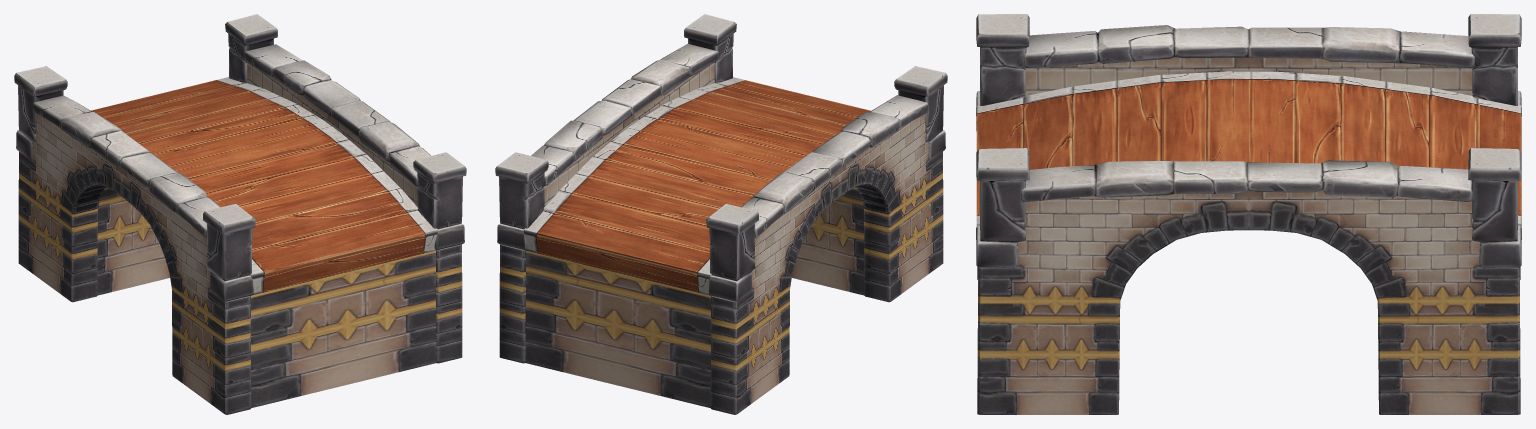
The model's file is bridge_stone.fbx.
3 views of the same model, side by side, from view 1: azimuth 30°, elevation 25°; view 2: azimuth 150°, elevation 25°; view 3: azimuth 270°, elevation 25° (orthographic). The views are drawn at different scales.
Visible parts, largest first — view 1: bridge_stone; view 2: bridge_stone; view 3: bridge_stone.
Part boxes in pixels (bbox=[...]): bridge_stone: bbox=[14, 14, 466, 414]; bridge_stone: bbox=[495, 14, 947, 414]; bridge_stone: bbox=[976, 14, 1521, 414].
Size of the model in its own units: 13146 by 19456 by 9780.
Materials: 1 (1 with a texture image).
